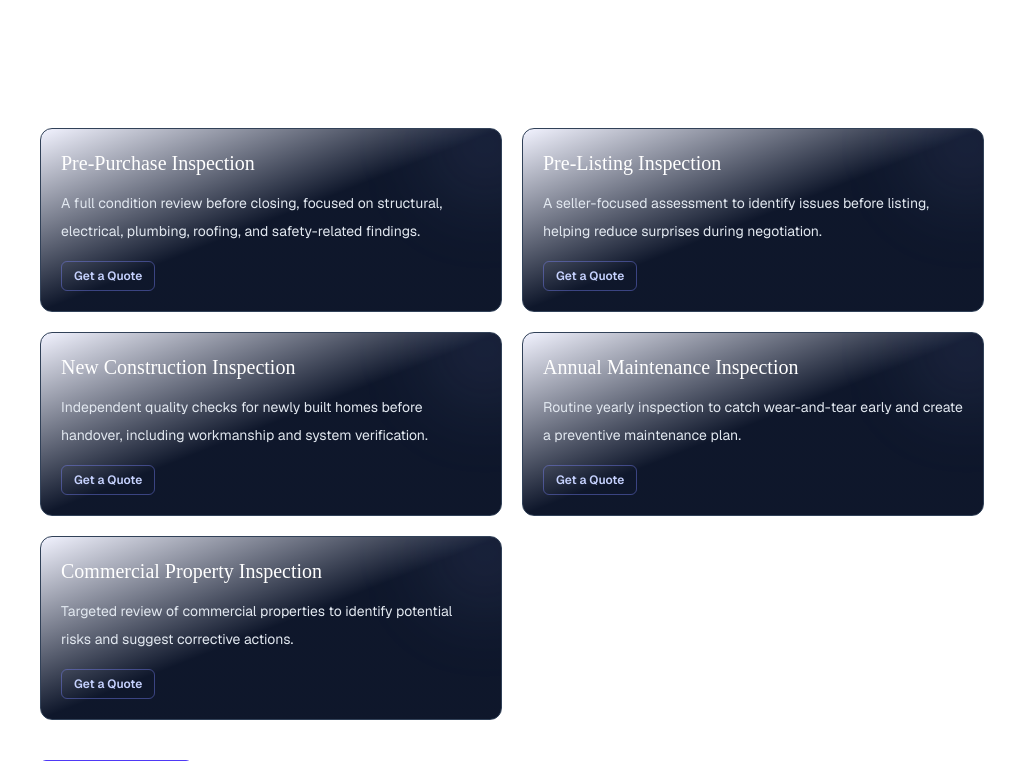
ServiceDetail › opens quote modal with subservice prefilled from subservice action
Click the button "Get a Quote" below "Pre-Purchase Inspection" at point(108, 276), box [61,261,155,291]
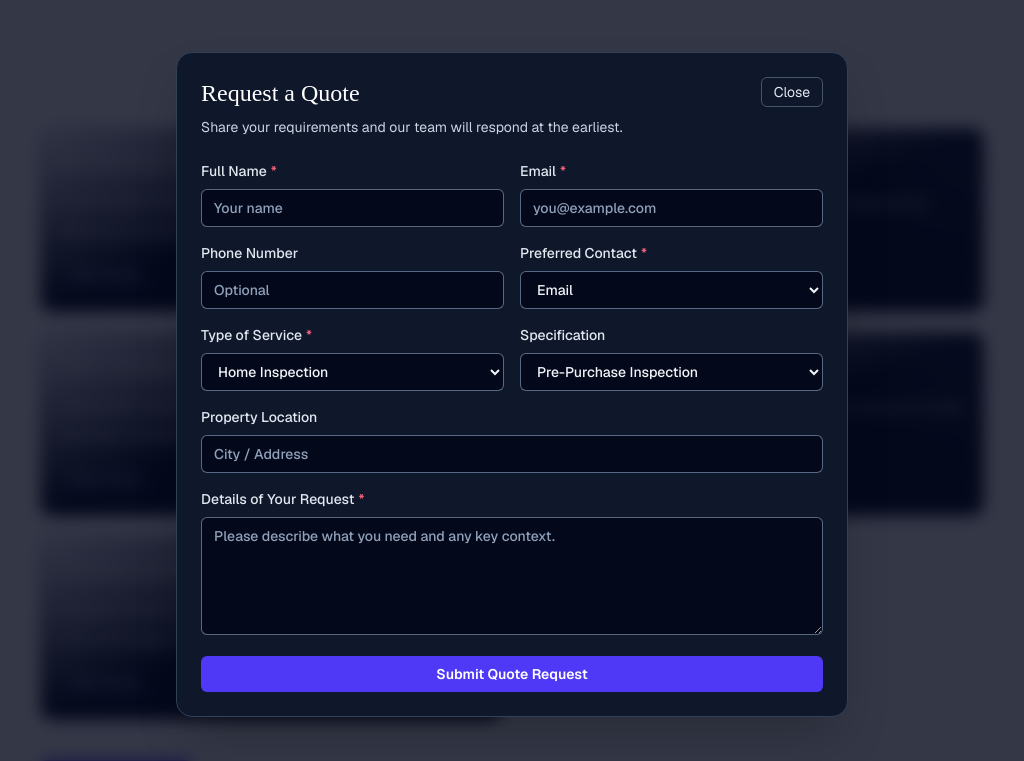
Expected: the dialog "Request a Quote" is shown, [176,52,848,716]
Expected: the dropdown labelled "Type of Service*" shows "Home Inspection", [201,352,504,390]
Expected: the dropdown labelled "Specification" shows "Pre-Purchase Inspection", [520,352,823,390]
